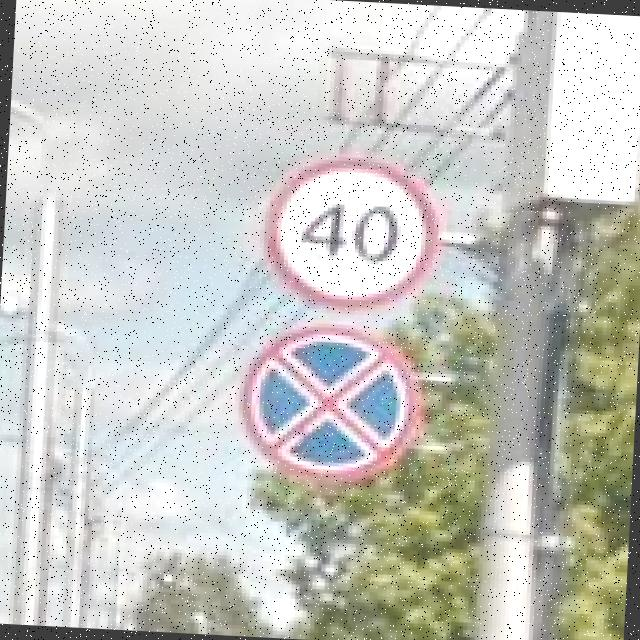Ograniczenie predkosci do 40: (261, 150, 442, 315)
Zakaz zatrzymywania sie: (236, 320, 424, 486)
